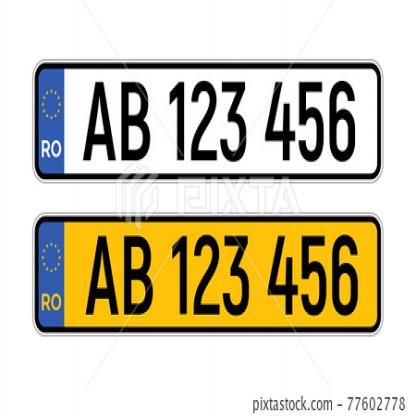Plates: (29, 207, 387, 341), (34, 57, 382, 189)
